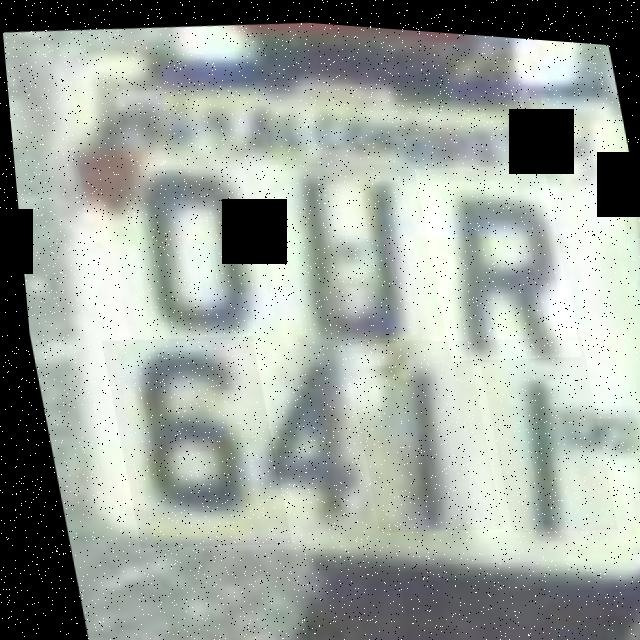1: (337, 326, 494, 534), (469, 322, 610, 531)
4: (217, 325, 396, 542)
6: (93, 323, 283, 555)
7: (478, 327, 639, 540)
O: (91, 141, 282, 370)
R: (410, 148, 576, 362)
U: (240, 133, 428, 358)
